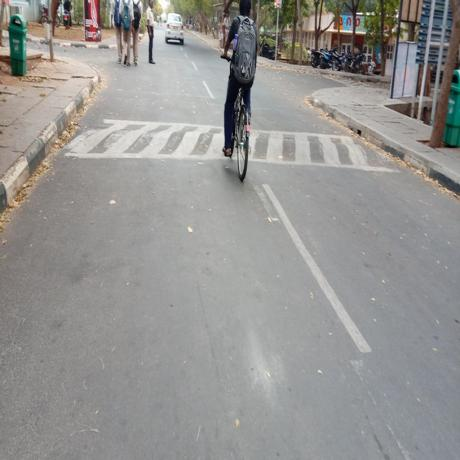Speed Bump: (79, 117, 389, 171)
